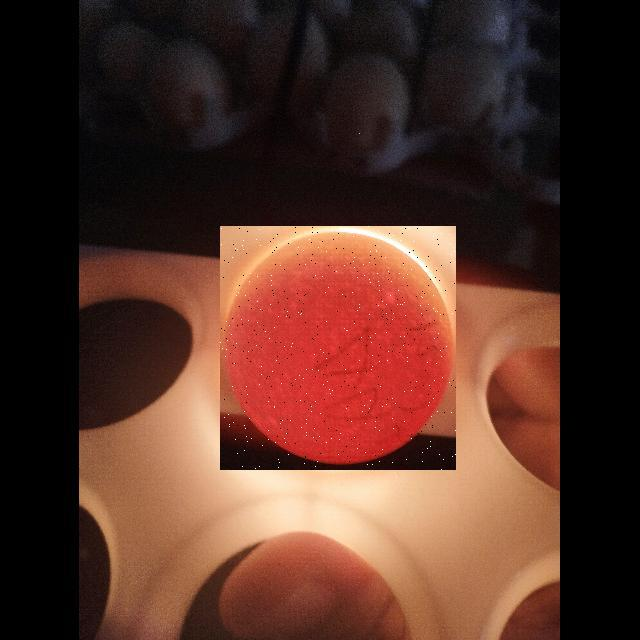A - Good: (220, 226, 456, 470)
